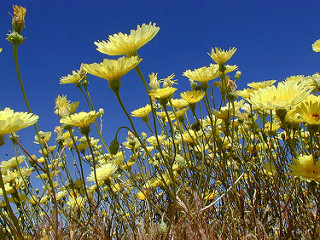dandelion: (91, 18, 165, 61), (80, 56, 148, 94), (60, 103, 106, 137), (180, 60, 227, 89), (147, 85, 179, 108), (127, 100, 156, 125)
